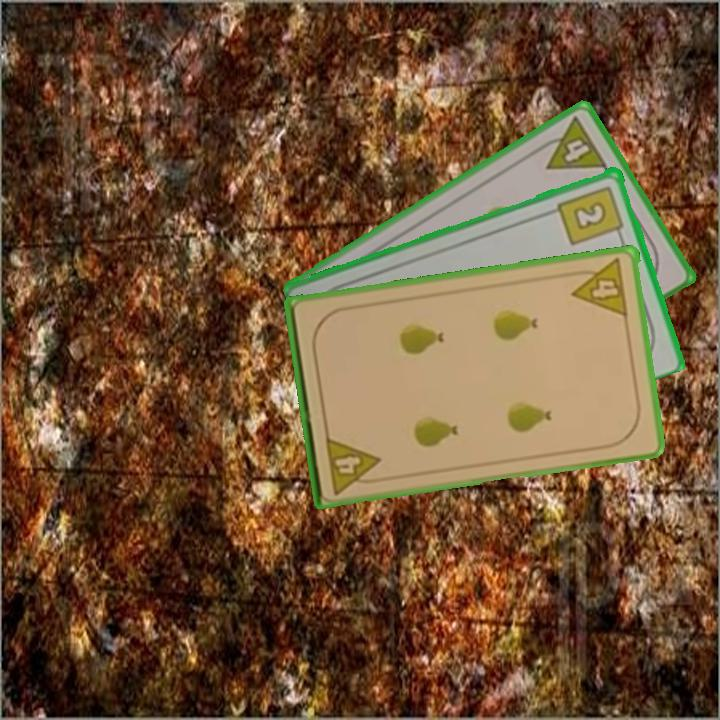2b: (554, 182, 627, 248)
4p: (532, 112, 610, 173), (567, 255, 632, 320), (322, 432, 385, 497)
